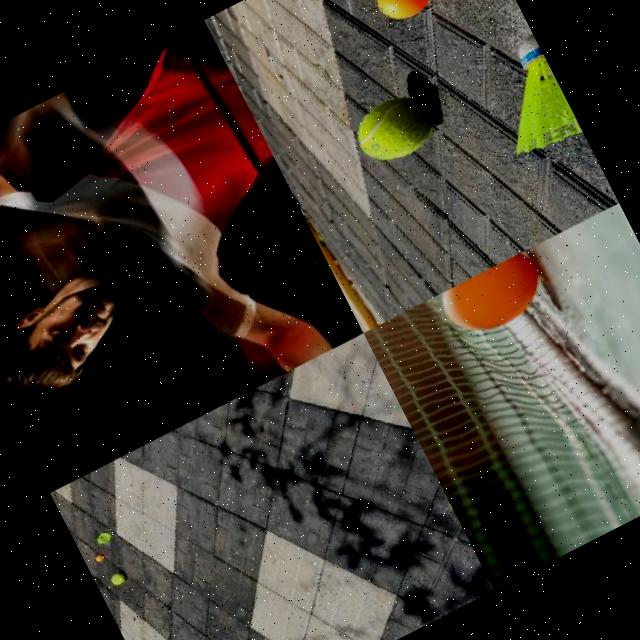ping-pong-ball: (434, 250, 554, 348), (369, 0, 438, 29), (94, 556, 103, 563)
